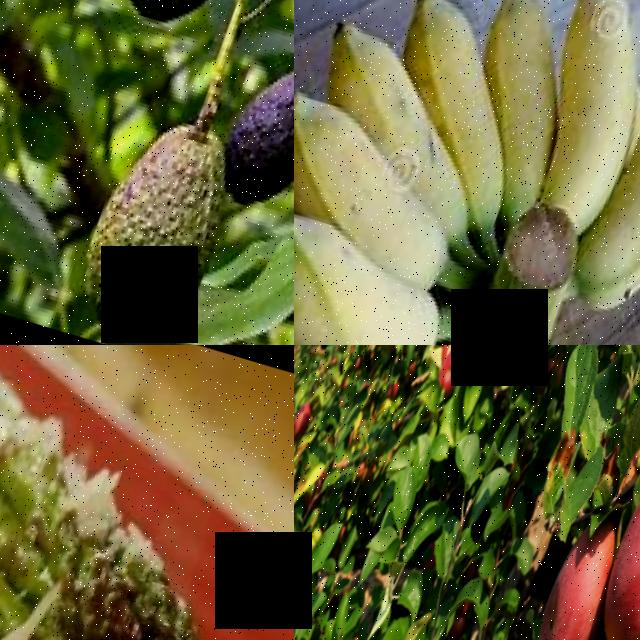apple: (516, 514, 635, 640), (585, 438, 640, 640), (430, 345, 470, 405), (294, 398, 320, 440)
avocado: (55, 100, 255, 345), (216, 37, 294, 204)
banana: (294, 0, 640, 345)
